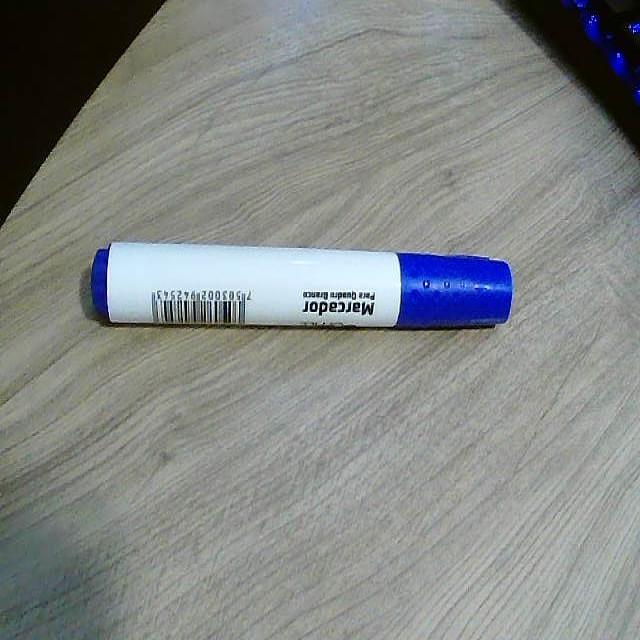caneta: (82, 227, 519, 346)
